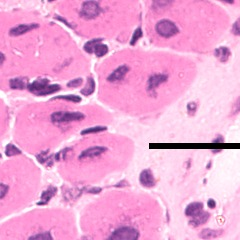New: (143, 1, 232, 55), (42, 1, 143, 41), (1, 150, 44, 224)
